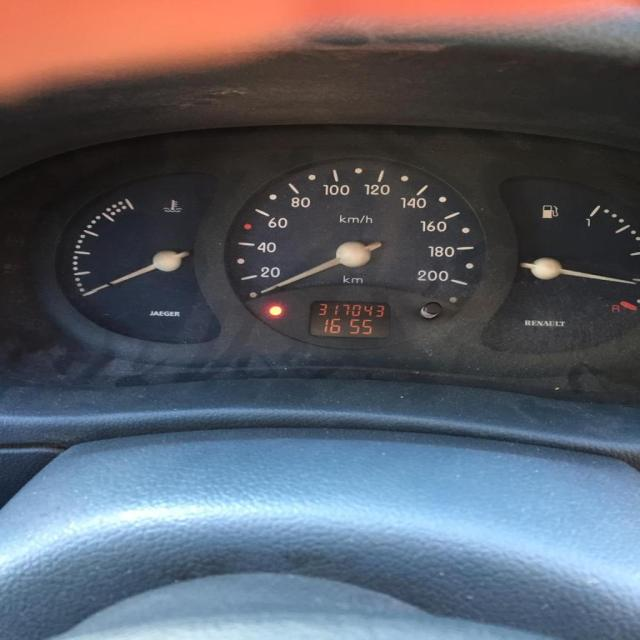odometer: (302, 296, 396, 340)
